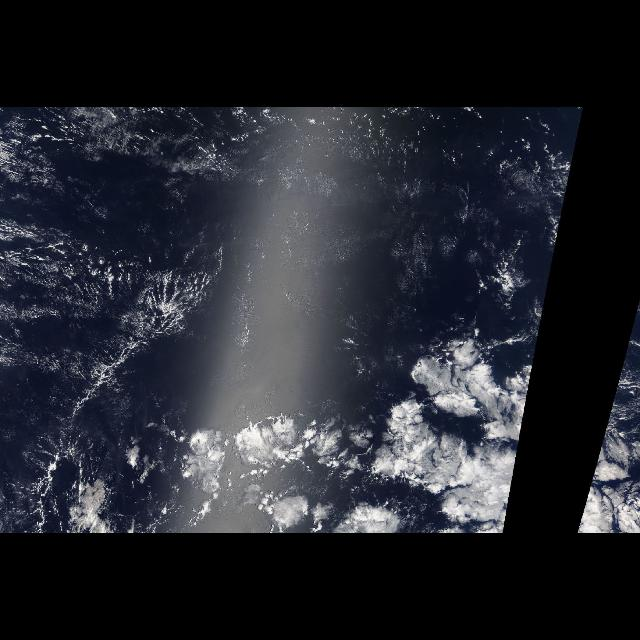Flower: (146, 392, 426, 530)
Sugar: (231, 134, 495, 336), (4, 286, 130, 406)
